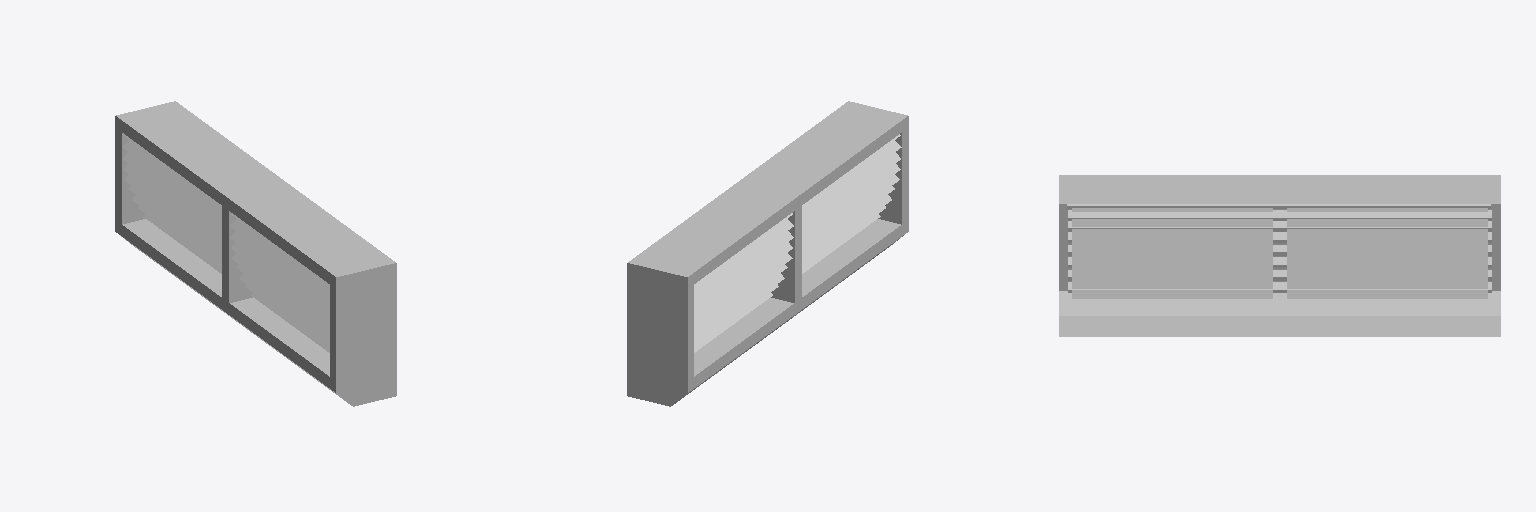
File: BigACUnit.obj
3 views of the same model, side by side, from view 1: azimuth 30°, elevation 25°; view 2: azimuth 150°, elevation 25°; view 3: azimuth 270°, elevation 25° (orthographic).
Parts seen in each view (by area): view 1: BigACUnit_Cube.052; view 2: BigACUnit_Cube.052; view 3: BigACUnit_Cube.052.
Boxes of the visible parts, x1=… form: BigACUnit_Cube.052: x1=115, y1=101, x2=396, y2=406; BigACUnit_Cube.052: x1=627, y1=101, x2=908, y2=406; BigACUnit_Cube.052: x1=1059, y1=175, x2=1500, y2=336.
Size of the model in its own units: 0.9408 by 2 by 6.